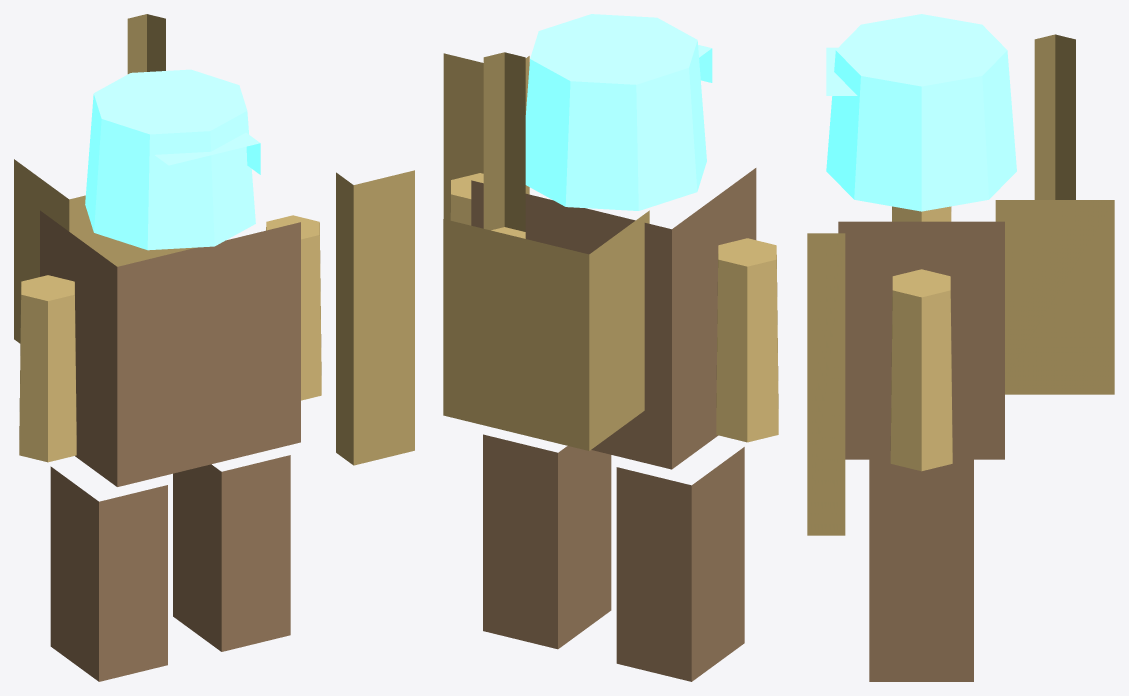
File: hero_tiko.glb
3 renders of one model, left to right at view 1: azimuth 30°, elevation 25°; view 2: azimuth 150°, elevation 25°; view 3: azimuth 270°, elevation 25°, orthographic. The views are drawn at different scales.
Parts seen in each view (by area): view 1: Torso, Head, Weapon, LeftLeg, RightLeg, LeftArm, Backpack, RightArm; view 2: Backpack, Head, Torso, LeftLeg, RightLeg, LeftArm, Weapon, RightArm; view 3: Head, Backpack, Torso, RightLeg, RightArm, Weapon, LeftLeg, LeftArm.
Boxes of the visible parts, bbox=[...] form: Torso: bbox=[40, 210, 300, 486]; Head: bbox=[85, 69, 260, 250]; Weapon: bbox=[336, 170, 414, 465]; LeftLeg: bbox=[50, 466, 167, 681]; RightLeg: bbox=[173, 455, 290, 651]; LeftArm: bbox=[19, 275, 76, 462]; Backpack: bbox=[14, 14, 195, 343]; RightArm: bbox=[266, 215, 321, 400]; Backpack: bbox=[443, 52, 649, 450]; Head: bbox=[525, 14, 712, 210]; Torso: bbox=[471, 168, 756, 469]; LeftLeg: bbox=[616, 447, 744, 681]; RightLeg: bbox=[483, 434, 611, 649]; LeftArm: bbox=[716, 238, 778, 442]; Weapon: bbox=[443, 53, 529, 220]; RightArm: bbox=[450, 173, 483, 225]; Head: bbox=[826, 14, 1016, 211]; Backpack: bbox=[995, 34, 1114, 394]; Torso: bbox=[838, 221, 1004, 459]; RightLeg: bbox=[869, 487, 973, 681]; RightArm: bbox=[890, 269, 952, 471]; Weapon: bbox=[807, 233, 845, 535]; LeftLeg: bbox=[869, 459, 973, 487]; LeftArm: bbox=[892, 206, 951, 221].
Bounding box in the file's own units: 0.895 × 1.4 × 0.645.
